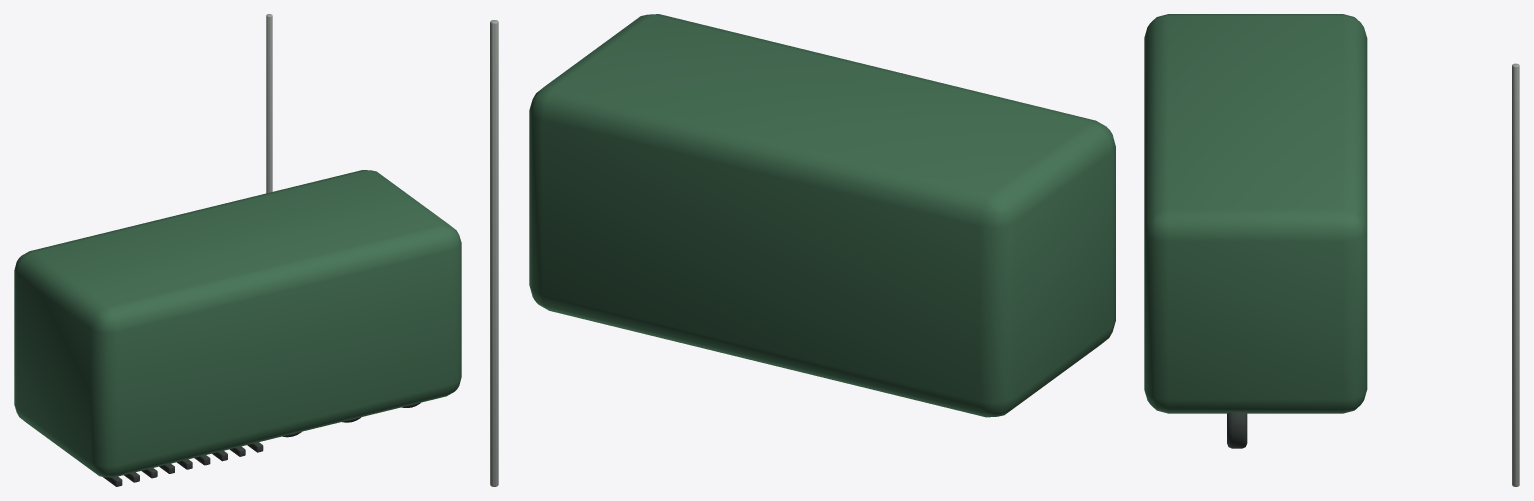
File: radio.glb
The picture shows the model from 3 angles, left to right: view 1: azimuth 30°, elevation 25°; view 2: azimuth 150°, elevation 25°; view 3: azimuth 270°, elevation 25°; orthographic projection. The views are drawn at different scales.
Parts seen in each view (by area): view 1: Radio_Body, Antenna; view 2: Radio_Body, Antenna; view 3: Radio_Body, Antenna, Radio_Knob2.
Part boxes in pixels (x1,y1,x2,y2): Radio_Body: [14, 170, 461, 477]; Antenna: [266, 14, 272, 193]; Radio_Body: [529, 14, 1115, 417]; Antenna: [490, 20, 498, 486]; Radio_Body: [1144, 14, 1367, 413]; Antenna: [1512, 63, 1519, 486]; Radio_Knob2: [1227, 412, 1247, 448].
Bounding box in the file's own units: 1.36 × 1.25 × 1.01.
